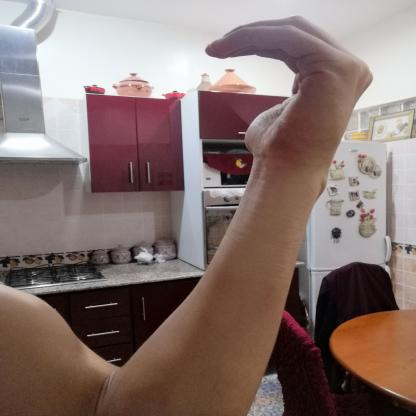HAA: (182, 8, 400, 180)
